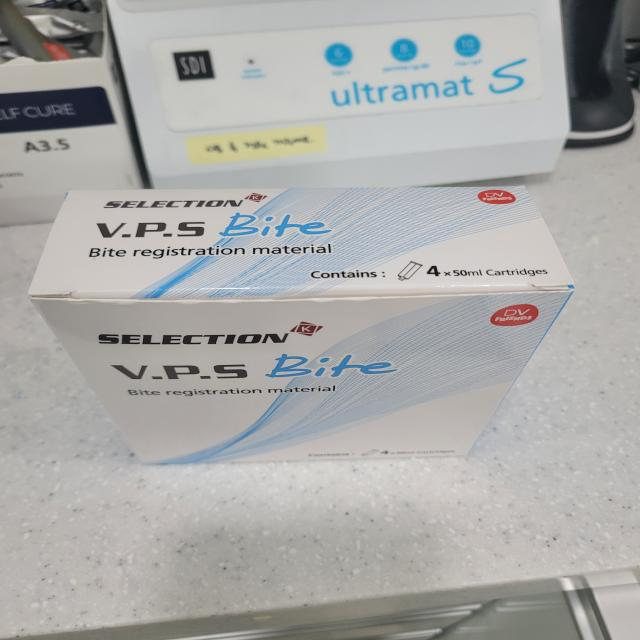impression: (14, 162, 592, 495)
